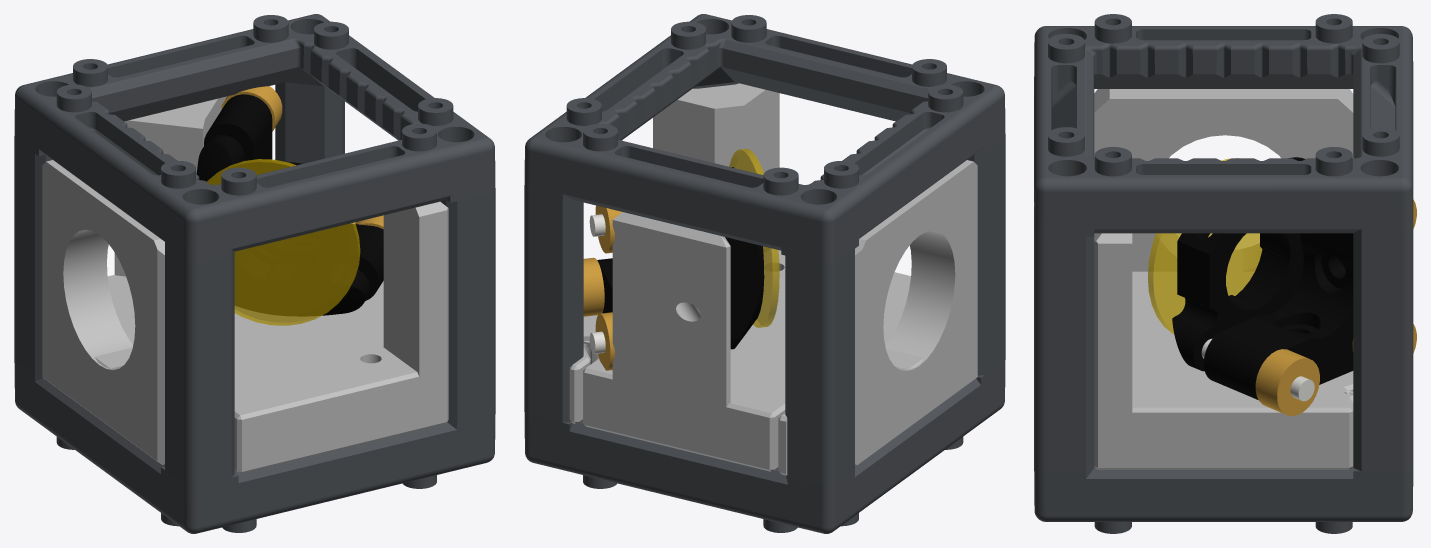
The model's file is ASS_-_Kinematic_Mirror_Offcentered_Galvo.glb.
The picture shows the model from 3 angles, left to right: view 1: azimuth 30°, elevation 25°; view 2: azimuth 150°, elevation 25°; view 3: azimuth 270°, elevation 25°; orthographic projection. The views are drawn at different scales.
Visible parts, largest first — view 1: PRT - 1003 - CUBHLF111 - V04:2, =>[0:1:1:4], PRT - 1003 - CUBHLF111 - V04:1, BUY - Kinematic mirror mount - ZJB-0.5-3:1, BUY - Emission filter - D25x1 WLS485:1; view 2: PRT - 1003 - CUBHLF111 - V04:2, =>[0:1:1:4], PRT - 1003 - CUBHLF111 - V04:1, BUY - Kinematic mirror mount - ZJB-0.5-3:1, BUY - Emission filter - D25x1 WLS485:1; view 3: PRT - 1003 - CUBHLF111 - V04:2, =>[0:1:1:4], PRT - 1003 - CUBHLF111 - V04:1, BUY - Kinematic mirror mount - ZJB-0.5-3:1, BUY - Emission filter - D25x1 WLS485:1.
Part boxes in pixels (x1,y1,x2,y2): PRT - 1003 - CUBHLF111 - V04:2: [14, 14, 495, 486]; =>[0:1:1:4]: [42, 96, 448, 473]; PRT - 1003 - CUBHLF111 - V04:1: [14, 138, 495, 533]; BUY - Kinematic mirror mount - ZJB-0.5-3:1: [196, 86, 383, 316]; BUY - Emission filter - D25x1 WLS485:1: [206, 159, 360, 325]; PRT - 1003 - CUBHLF111 - V04:2: [524, 14, 1005, 422]; =>[0:1:1:4]: [569, 83, 977, 475]; PRT - 1003 - CUBHLF111 - V04:1: [524, 82, 1005, 533]; BUY - Kinematic mirror mount - ZJB-0.5-3:1: [583, 167, 764, 370]; BUY - Emission filter - D25x1 WLS485:1: [729, 149, 779, 327]; PRT - 1003 - CUBHLF111 - V04:2: [1034, 14, 1413, 471]; =>[0:1:1:4]: [1034, 89, 1353, 469]; PRT - 1003 - CUBHLF111 - V04:1: [1034, 232, 1413, 533]; BUY - Kinematic mirror mount - ZJB-0.5-3:1: [1172, 157, 1416, 415]; BUY - Emission filter - D25x1 WLS485:1: [1147, 158, 1262, 333].
Bounding box in the file's own units: 53.44 × 53.8 × 50.26.
